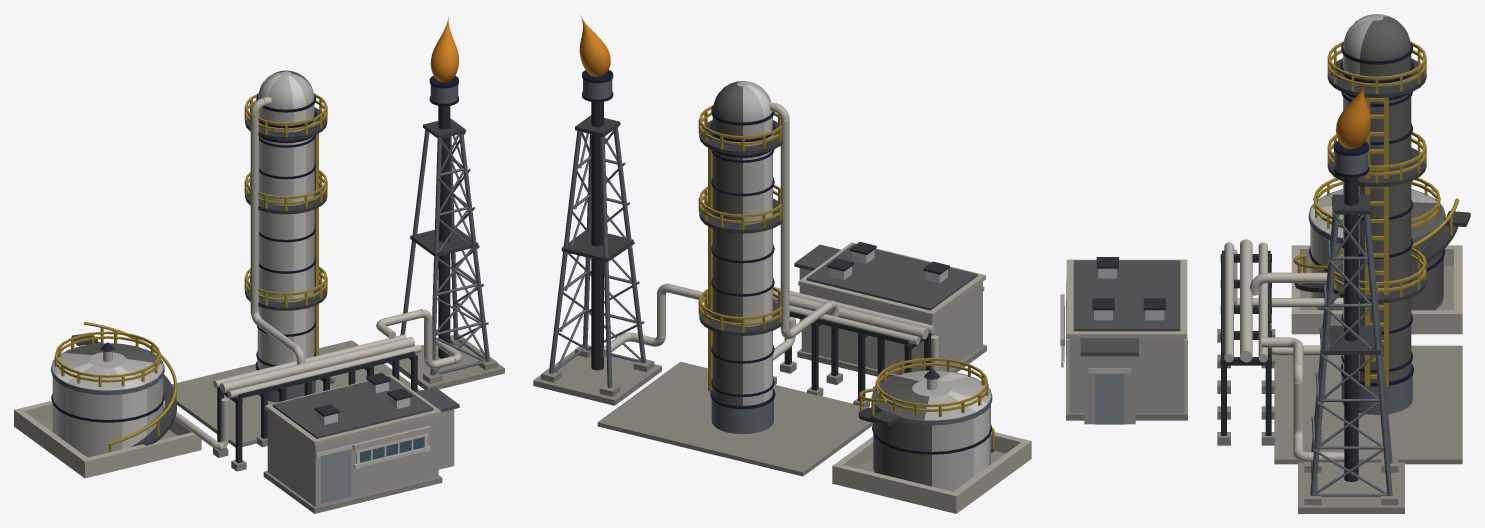
The model's file is petro_refinery_lvl1.glb.
3 views of the same model, side by side, from view 1: azimuth 30°, elevation 25°; view 2: azimuth 150°, elevation 25°; view 3: azimuth 270°, elevation 25° (orthographic). The views are drawn at different scales.
Parts seen in each view (by area): view 1: petro_refinery_v2, petro_refinery_v2_Glass; view 2: petro_refinery_v2; view 3: petro_refinery_v2.
Boxes of the visible parts, x1,y1,x2,y2 form: petro_refinery_v2: [14, 17, 504, 513]; petro_refinery_v2_Glass: [360, 437, 424, 462]; petro_refinery_v2: [533, 15, 1031, 513]; petro_refinery_v2: [1060, 14, 1470, 513].
Bounding box in the file's own units: 1 × 0.7811 × 0.6981.
